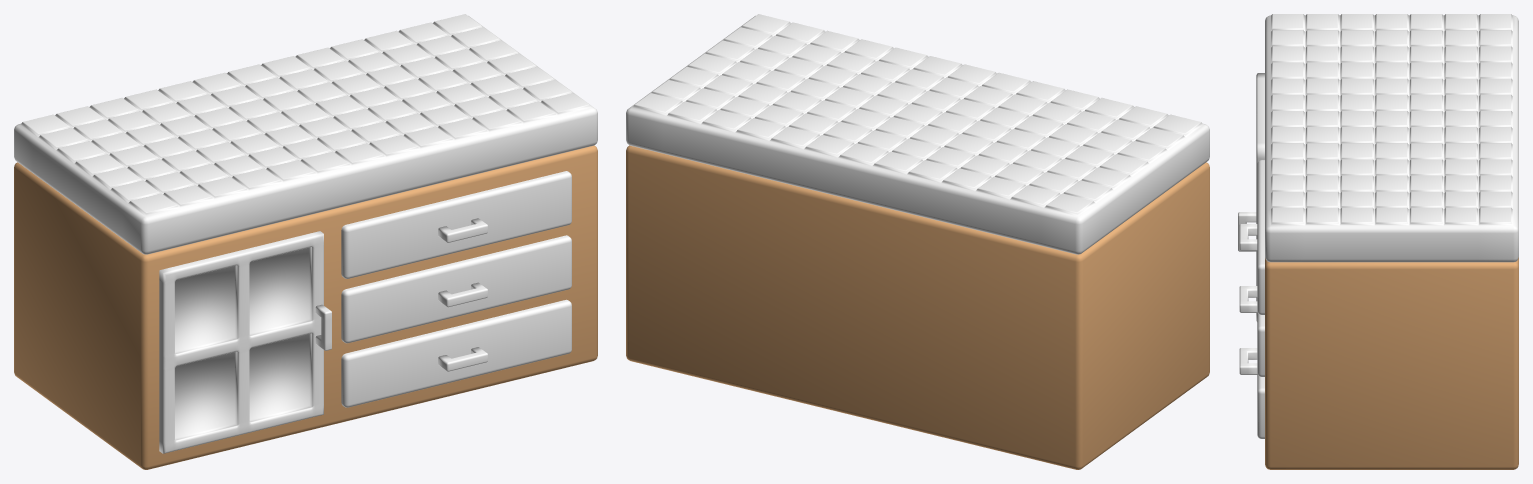
The model's file is countertop.fbx.
The picture shows the model from 3 angles, left to right: view 1: azimuth 30°, elevation 25°; view 2: azimuth 150°, elevation 25°; view 3: azimuth 270°, elevation 25°; orthographic projection. The views are drawn at different scales.
Visible parts, largest first — view 1: top, body, window, drawer_mid, drawer_top, drawer_bot, drawer_mid_handle, drawer_top_handle, drawer_bot_handle, window_handle; view 2: body, top; view 3: top, body, drawer_top, window, drawer_mid, drawer_bot, drawer_top_handle, drawer_mid_handle, drawer_bot_handle.
Part boxes in pixels (x1=…): top: x1=14, y1=14, x2=597, y2=254; body: x1=14, y1=145, x2=597, y2=469; window: x1=159, y1=231, x2=323, y2=453; drawer_mid: x1=341, y1=235, x2=571, y2=343; drawer_top: x1=341, y1=171, x2=571, y2=278; drawer_bot: x1=341, y1=299, x2=571, y2=407; drawer_mid_handle: x1=438, y1=282, x2=487, y2=307; drawer_top_handle: x1=438, y1=218, x2=487, y2=242; drawer_bot_handle: x1=438, y1=347, x2=487, y2=371; window_handle: x1=315, y1=304, x2=331, y2=350; body: x1=626, y1=145, x2=1209, y2=469; top: x1=626, y1=14, x2=1209, y2=254; top: x1=1265, y1=14, x2=1518, y2=262; body: x1=1265, y1=257, x2=1518, y2=469; drawer_top: x1=1257, y1=160, x2=1264, y2=314; window: x1=1256, y1=73, x2=1264, y2=321; drawer_mid: x1=1257, y1=312, x2=1264, y2=376; drawer_bot: x1=1257, y1=374, x2=1264, y2=438; drawer_top_handle: x1=1239, y1=224, x2=1257, y2=250; drawer_mid_handle: x1=1239, y1=286, x2=1257, y2=312; drawer_bot_handle: x1=1239, y1=348, x2=1257, y2=374.
Size of the model in its own units: 400 by 214 by 221.
